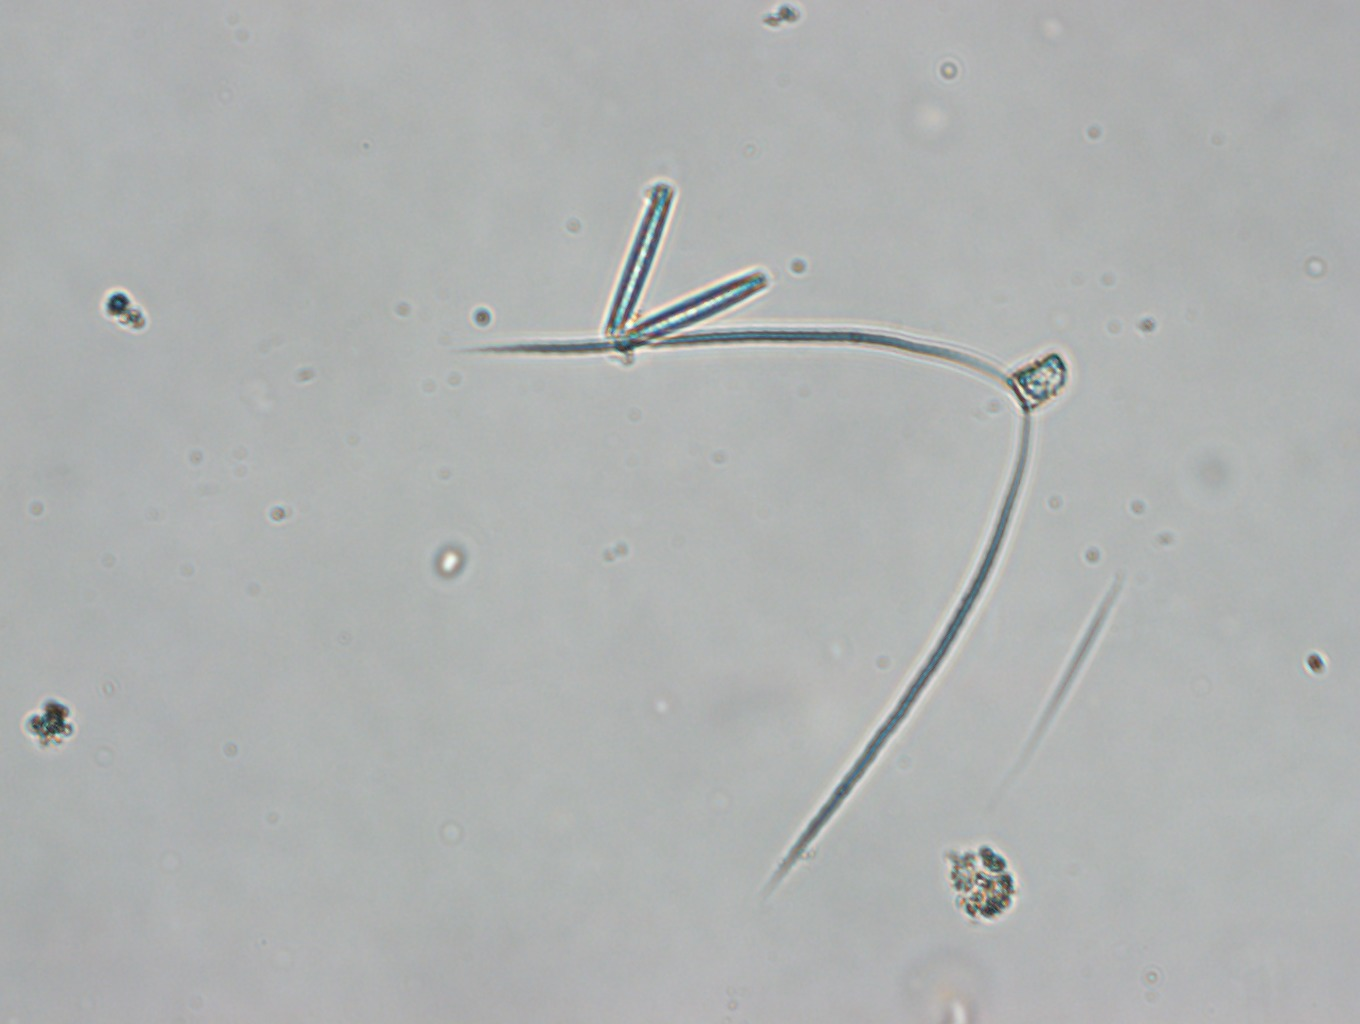chaetoceros: (492, 323, 1086, 891)
thalassionema frauenfeldii: (584, 179, 778, 364)
